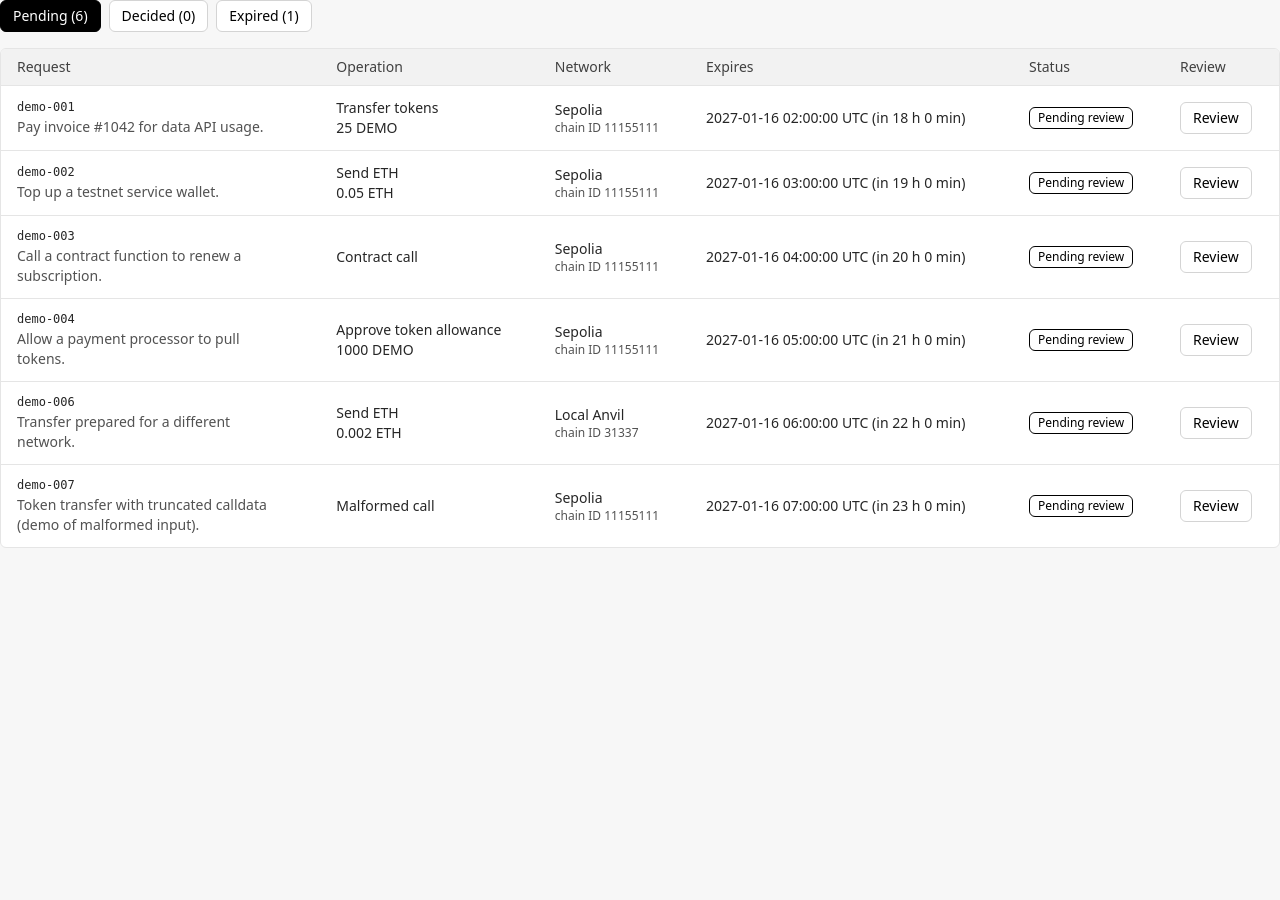
Test case: ApprovalWorkspace review › shows the exact operation, in full
This screenshot has width=1280, height=900.
Click the button with aria-label "Review request demo-001": (1216, 118) [1180,102,1252,134]
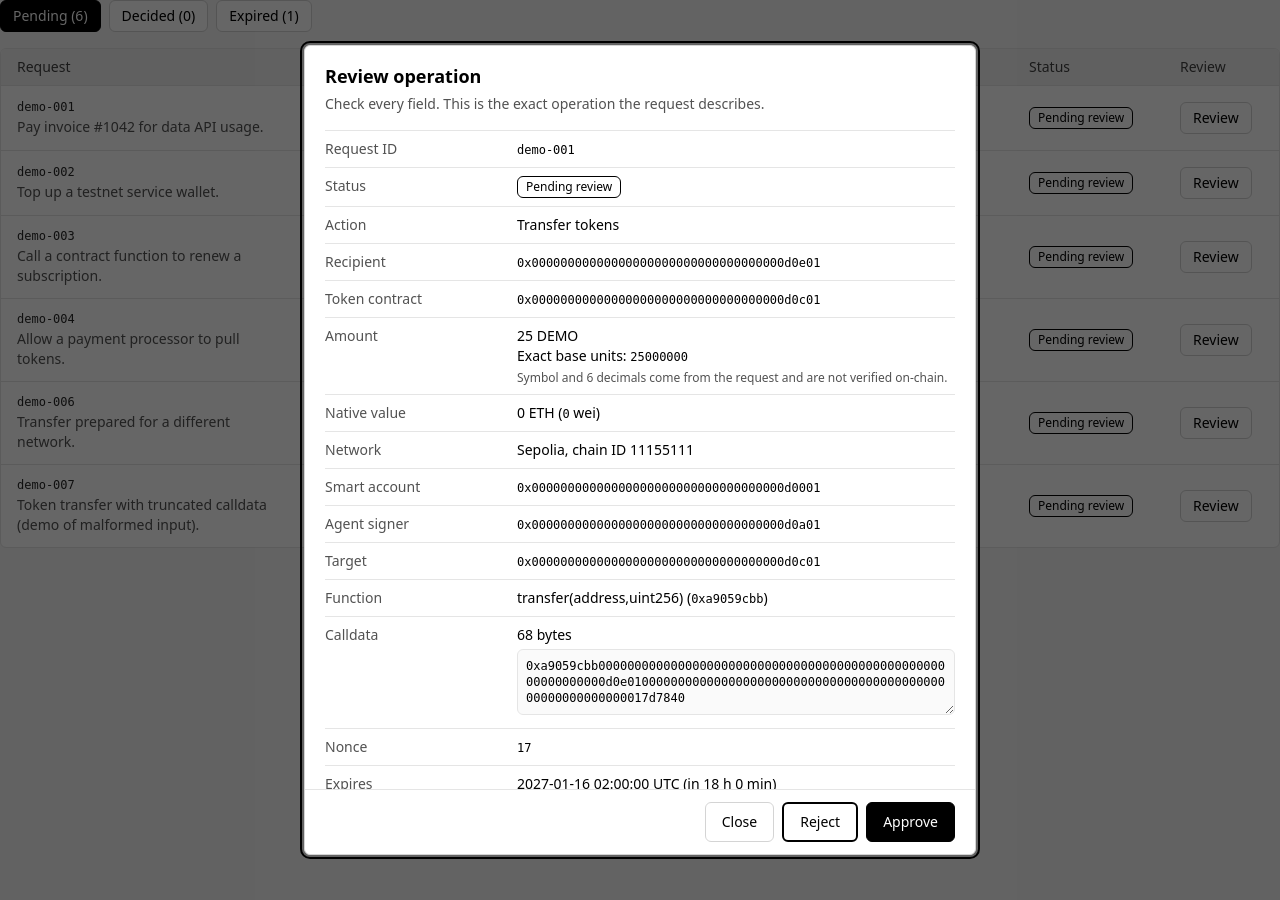
expect the text "Transfer tokens" is shown: met, box [517,215,619,234]
expect the text "25 DEMO" is shown: met, box [517,326,578,345]
expect the text "25000000" is shown: met, box [630,350,688,364]
